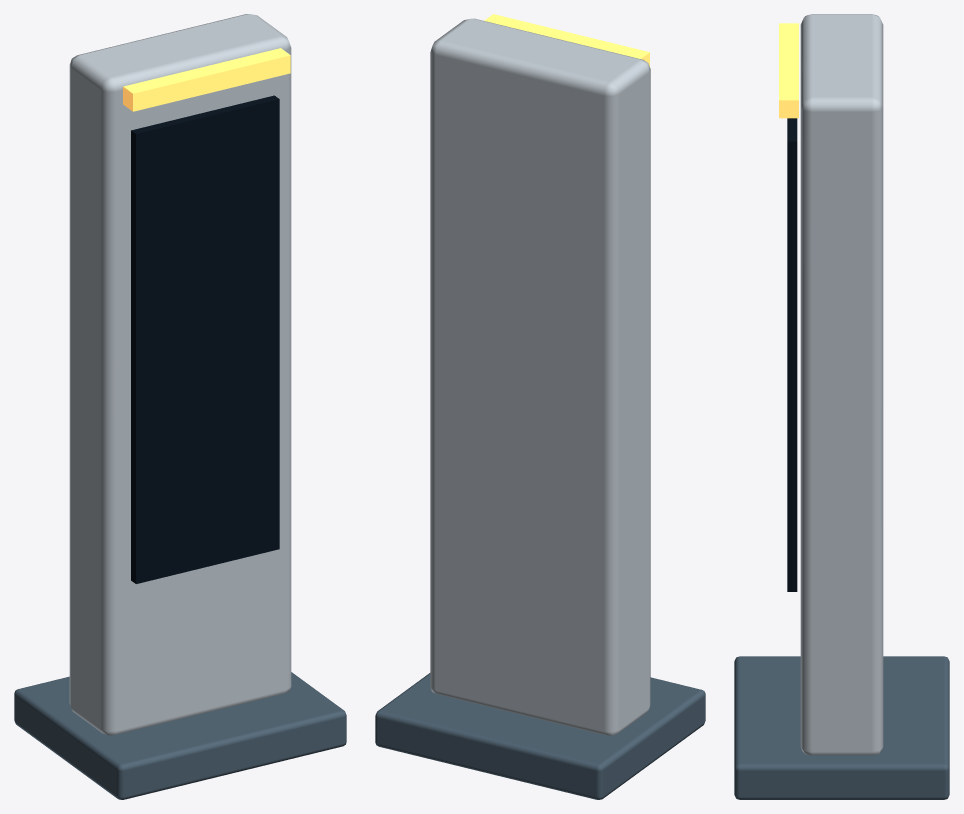
File: wayfinding-pylon.glb
The picture shows the model from 3 angles, left to right: view 1: azimuth 30°, elevation 25°; view 2: azimuth 150°, elevation 25°; view 3: azimuth 270°, elevation 25°; orthographic projection.
Parts seen in each view (by area): view 1: pylon, label_surface, foot, beacon; view 2: pylon, foot, beacon; view 3: pylon, foot, label_surface, beacon.
Part boxes in pixels (left/top/right/bottom): pylon: left=69, top=14, right=291, bottom=735; label_surface: left=131, top=95, right=279, bottom=583; foot: left=14, top=672, right=346, bottom=799; beacon: left=123, top=48, right=290, bottom=111; pylon: left=430, top=18, right=650, bottom=735; foot: left=375, top=673, right=705, bottom=799; beacon: left=484, top=14, right=649, bottom=66; pylon: left=800, top=14, right=883, bottom=755; foot: left=734, top=656, right=949, bottom=799; label_surface: left=787, top=118, right=797, bottom=591; beacon: left=779, top=23, right=798, bottom=118.
Bounding box in the file's own units: 0.8 × 2.3 × 0.65.
